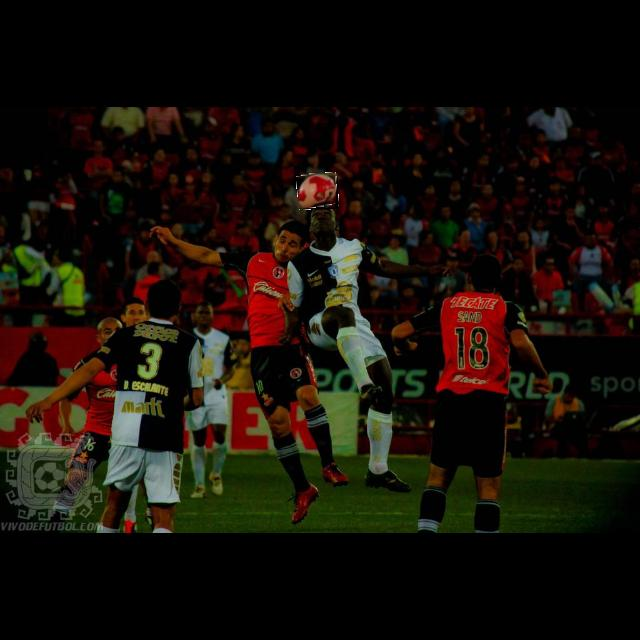Football: (298, 173, 338, 209)
